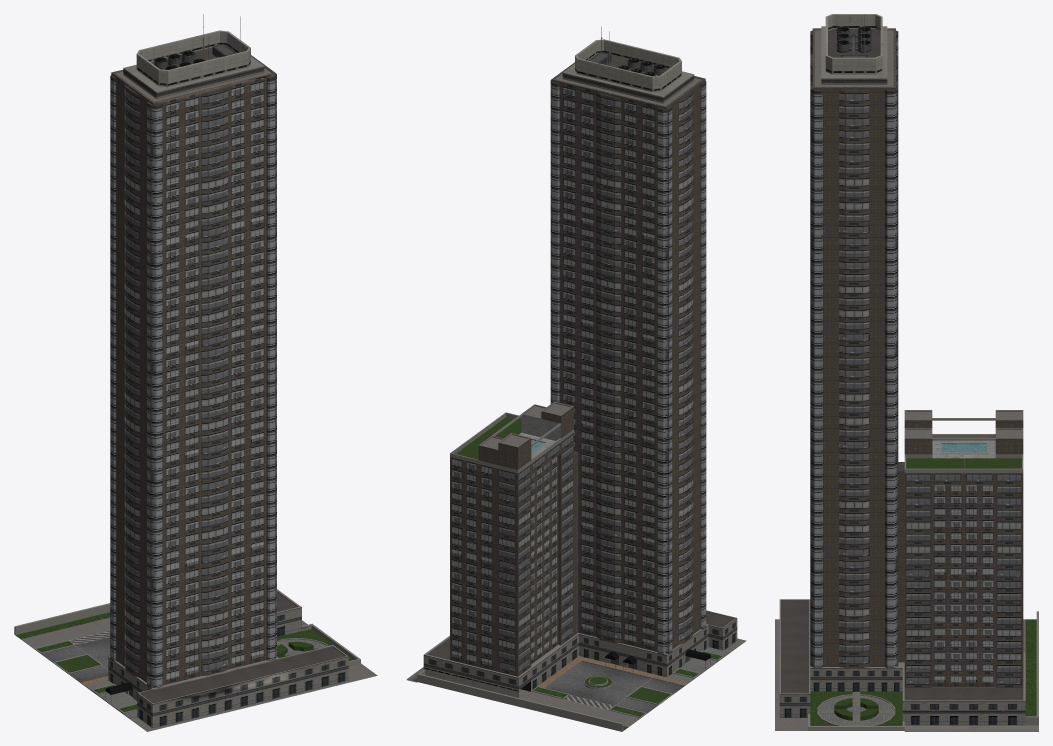
3 views of the same model, side by side, from view 1: azimuth 30°, elevation 25°; view 2: azimuth 150°, elevation 25°; view 3: azimuth 270°, elevation 25° (orthographic). The views are drawn at different scales.
Visible parts, largest first — view 1: bina.011; view 2: bina.011; view 3: bina.011.
Part boxes in pixels (x1,y1,x2,y2): bina.011: (14,14,377,731); bina.011: (406,26,746,731); bina.011: (775,14,1038,731).
Size of the model in its own units: 19.73 by 54.19 by 19.7.
Materials: 1 (1 with a texture image).
